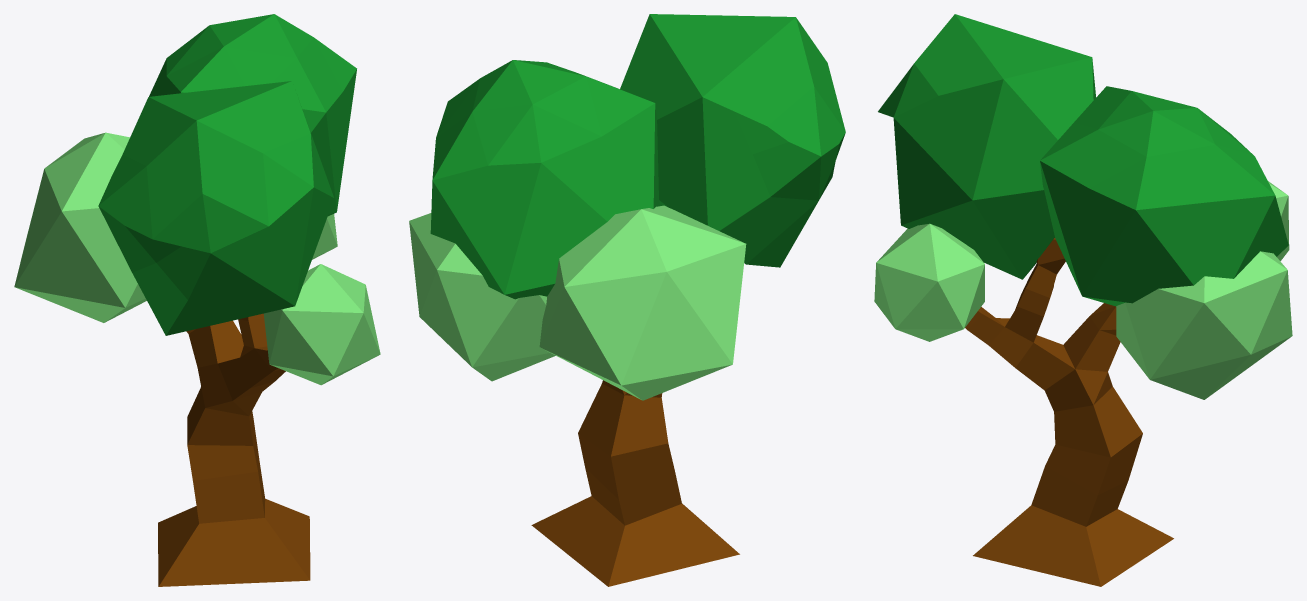
Rendered from ENVI_Pohon_Besar.fbx.
3 views of the same model, side by side, from view 1: azimuth 30°, elevation 25°; view 2: azimuth 150°, elevation 25°; view 3: azimuth 270°, elevation 25° (orthographic). The views are drawn at different scales.
Parts seen in each view (by area): view 1: Pohon Besar; view 2: Pohon Besar; view 3: Pohon Besar.
Boxes of the visible parts, x1,y1,x2,y2 form: Pohon Besar: [14, 14, 380, 586]; Pohon Besar: [409, 14, 845, 586]; Pohon Besar: [874, 14, 1292, 586].
Size of the model in its own units: 874 by 1318 by 1021.
